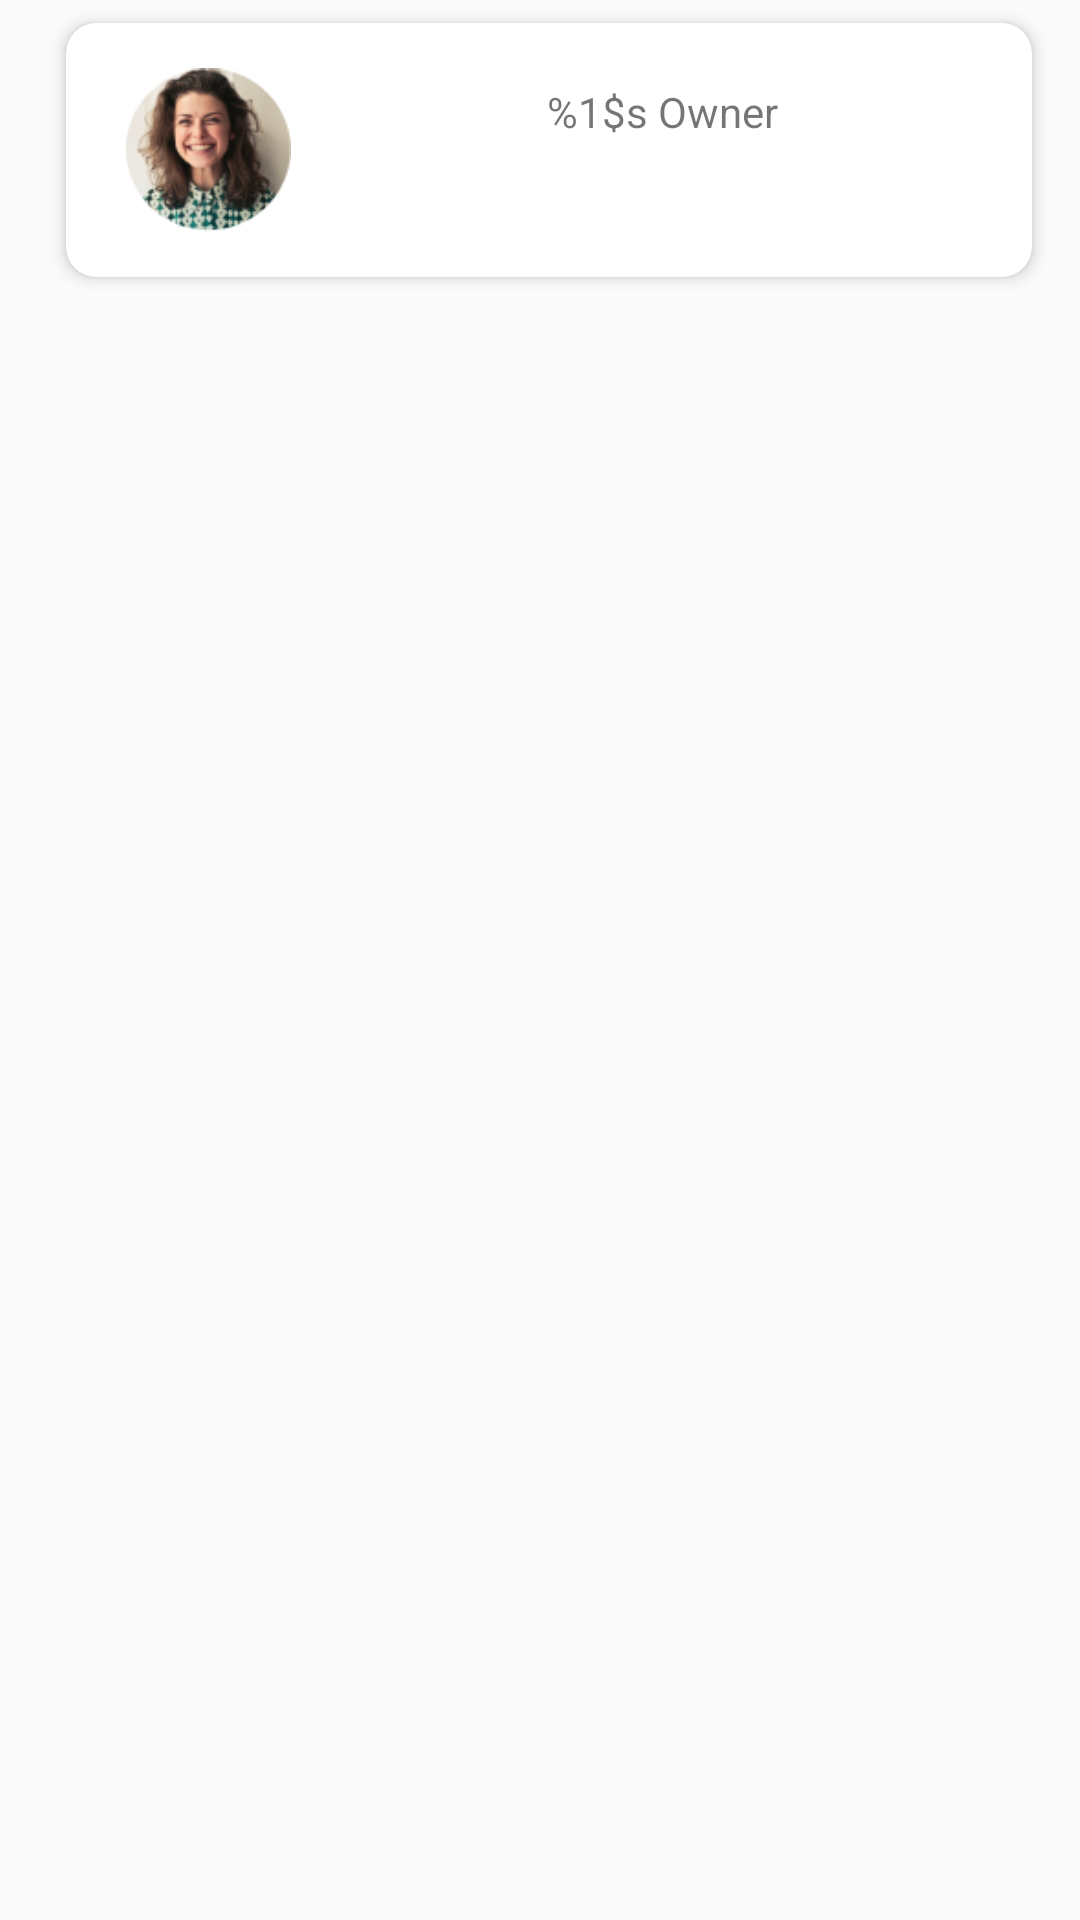

Icons on this 1080×1920 Android screen, each with the point to tap as point (x, y):
portrait: point (208, 149)
